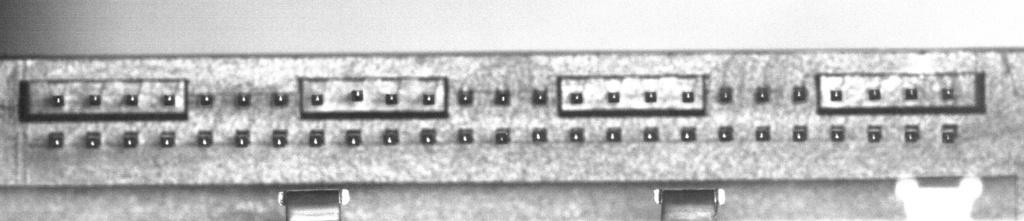pin_ok: (941, 124, 958, 143), (271, 129, 288, 147), (457, 88, 474, 105), (196, 130, 213, 147), (904, 125, 921, 142), (159, 131, 176, 148), (47, 131, 64, 148), (234, 129, 250, 147), (382, 128, 399, 144), (494, 128, 511, 144), (532, 87, 548, 104), (308, 129, 324, 146), (420, 128, 437, 144), (85, 131, 101, 148), (494, 88, 511, 104), (123, 131, 139, 148), (754, 86, 770, 102), (792, 125, 808, 141), (829, 126, 845, 142), (345, 130, 361, 146), (271, 91, 288, 106), (457, 128, 474, 143), (605, 127, 622, 142), (792, 85, 807, 102), (642, 127, 658, 142), (718, 86, 733, 102), (867, 126, 882, 142), (718, 126, 733, 141), (569, 127, 584, 142), (755, 126, 770, 141), (531, 128, 547, 142), (680, 127, 696, 141), (198, 92, 214, 106), (940, 87, 955, 101), (237, 92, 252, 106), (161, 93, 176, 106), (903, 87, 918, 100), (681, 90, 695, 103), (867, 87, 881, 100), (606, 90, 620, 103), (569, 91, 583, 104), (644, 90, 657, 103), (88, 93, 101, 106), (422, 92, 436, 104), (310, 93, 324, 105), (350, 89, 364, 101), (829, 89, 843, 101), (385, 92, 398, 104), (125, 93, 138, 105), (53, 94, 65, 106)
